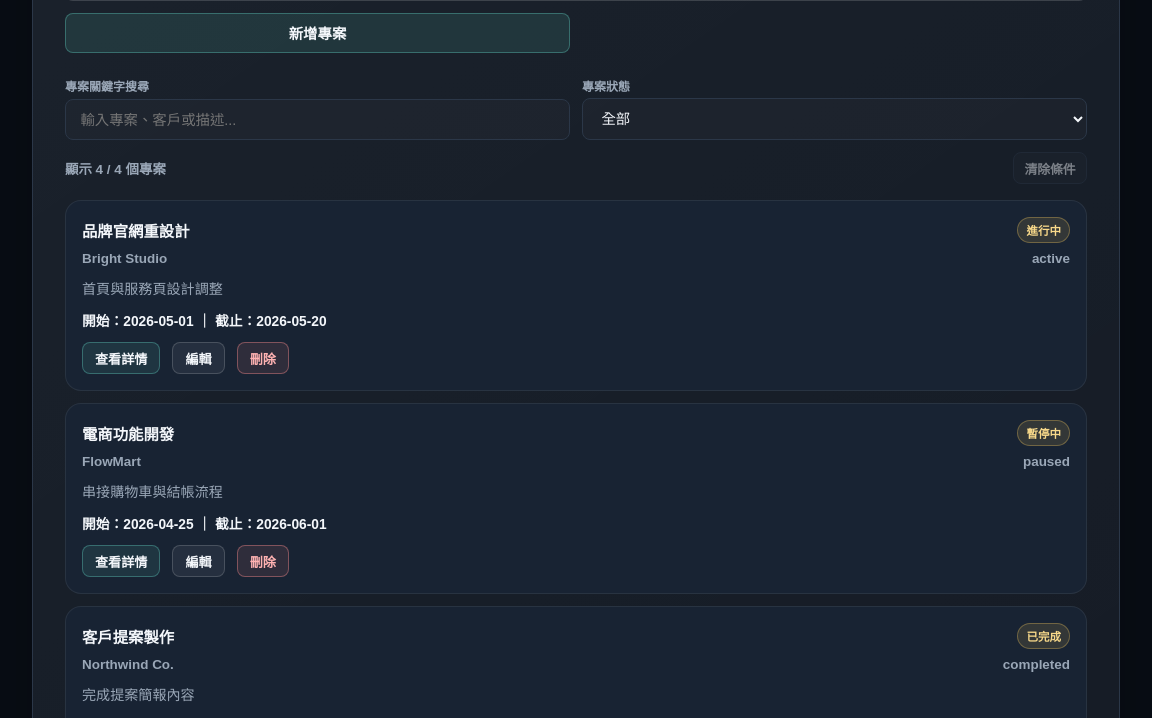
Test: ProjectsPage Supabase integration behaviors › deletes the selected project only
(page scrolled)
Click the button with test id "projects-delete-button" below "2026-05-01" at [263, 358], box 237,342 -> 289,374
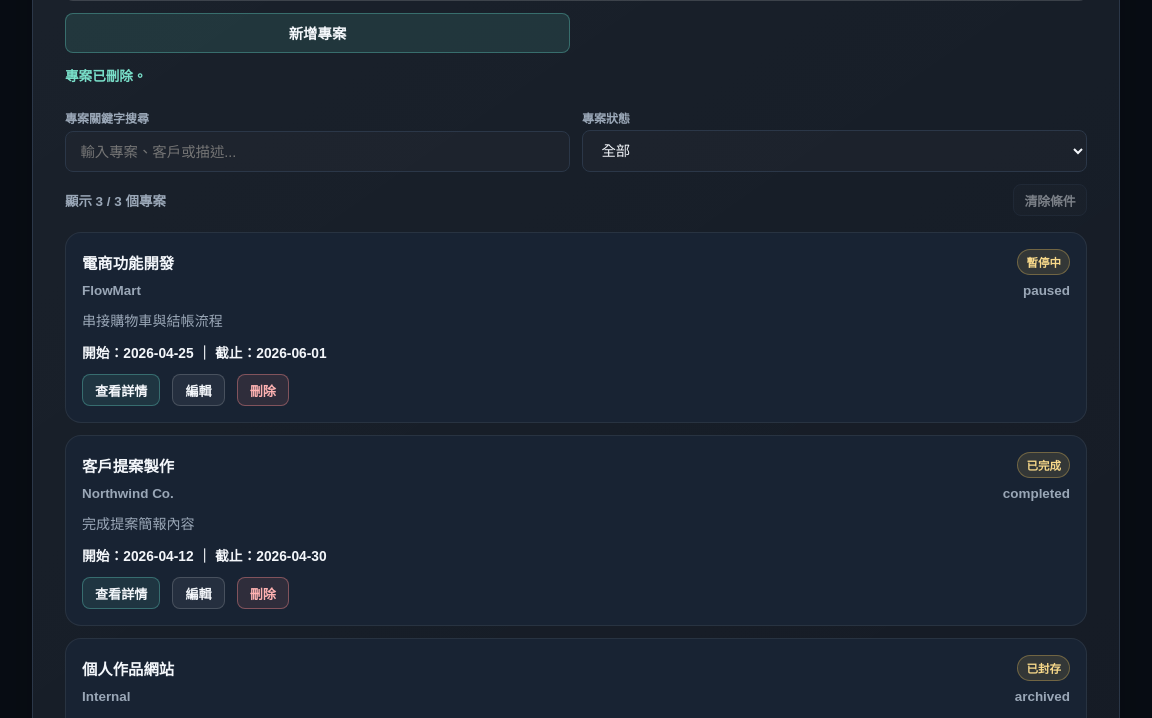
Expected: the heading "電商功能開發" is shown, 82,251 -> 174,273
Result: the text with test id "projects-result-count" shows "3 / 3" at 65,190 -> 166,210
Result: the heading "品牌官網重設計" is gone
